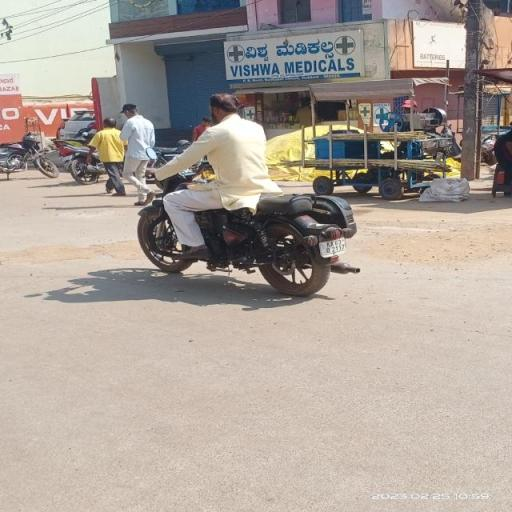bike: (132, 92, 366, 298)
numberplate: (316, 234, 350, 260)
withouthelmet: (212, 95, 238, 120)
